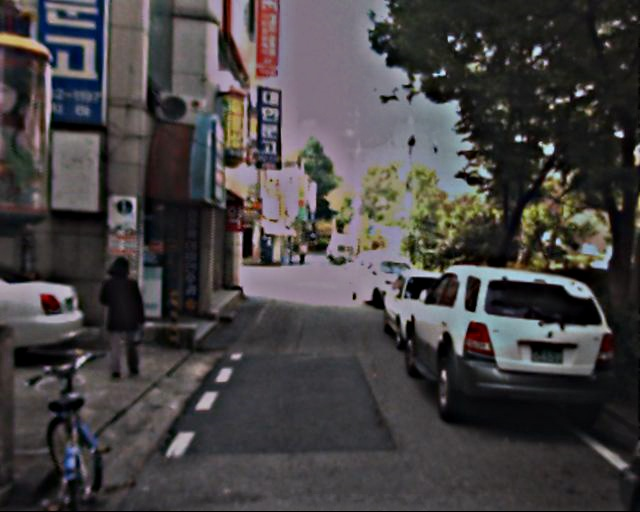person: (98, 243, 155, 376)
